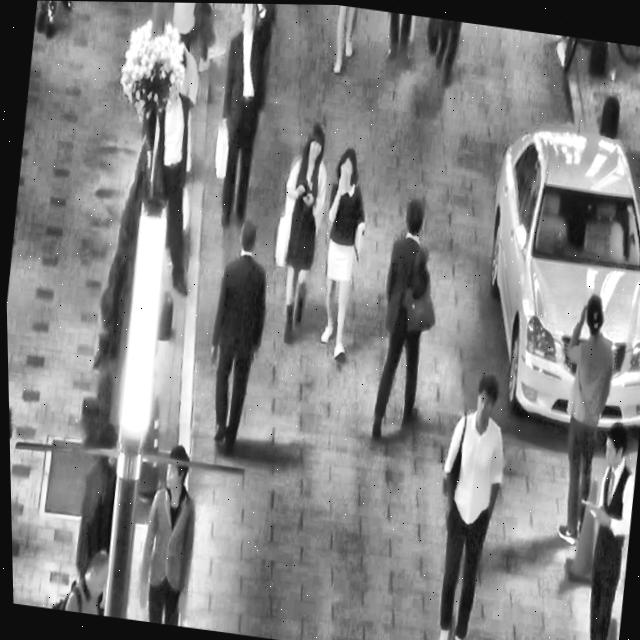light_vehicle: (459, 98, 640, 442)
